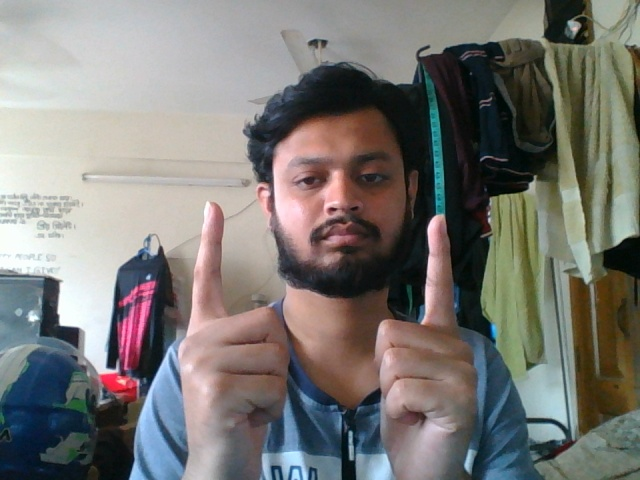ishara: (171, 198, 492, 478)
